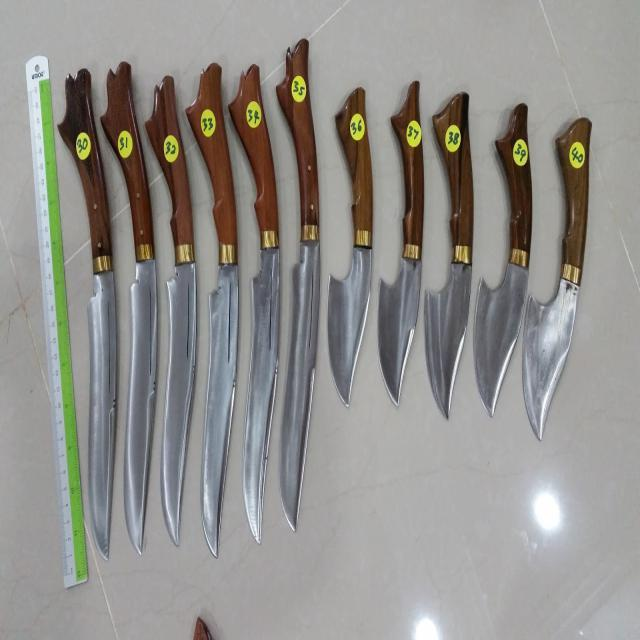Pisau: (270, 19, 322, 543)
